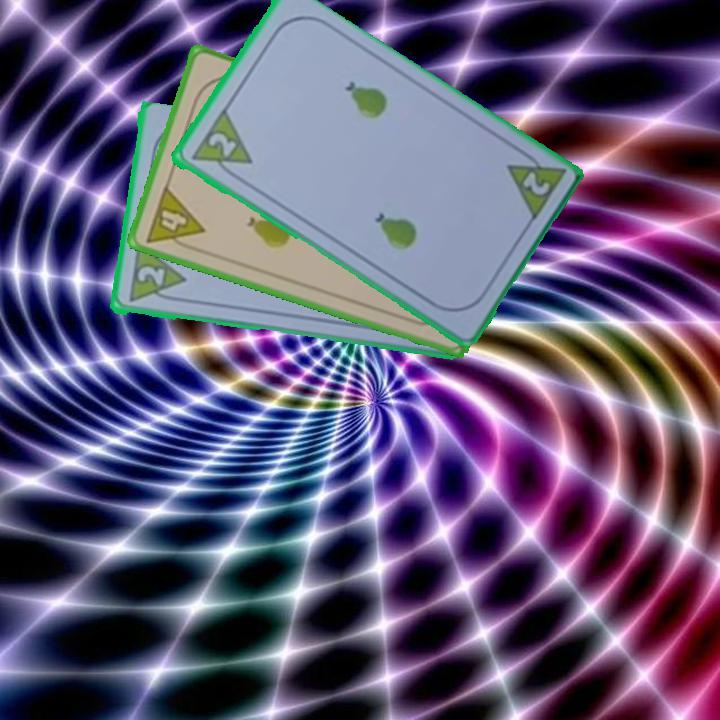2p: (501, 143, 567, 225), (186, 107, 254, 184), (124, 242, 187, 306)
4p: (141, 182, 208, 255)
